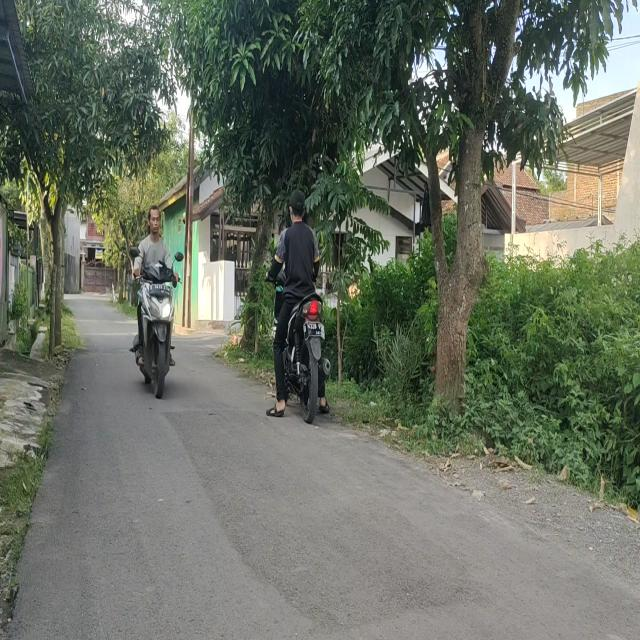no-helmet: (287, 192, 307, 230), (148, 202, 164, 238)
